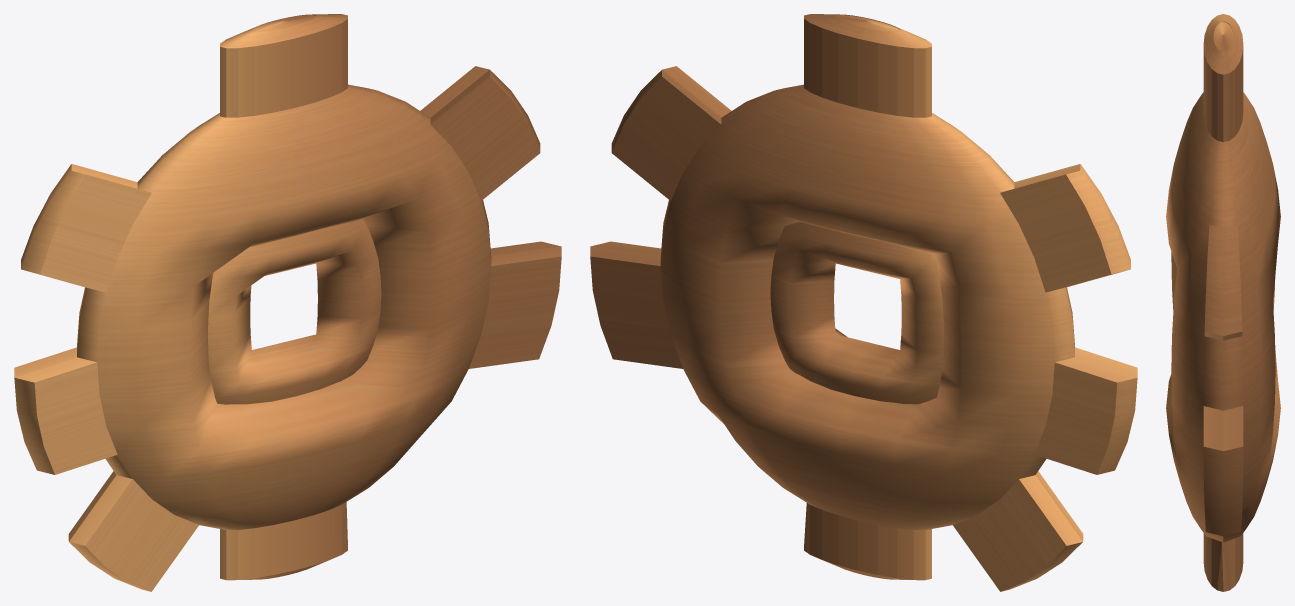
The model's file is cog 2.fbx.
3 renders of one model, left to right at view 1: azimuth 30°, elevation 25°; view 2: azimuth 150°, elevation 25°; view 3: azimuth 270°, elevation 25°, orthographic. The views are drawn at different scales.
Visible parts, largest first — view 1: pSphere3; view 2: pSphere3; view 3: pSphere3.
Boxes of the visible parts, x1=… form: pSphere3: x1=14, y1=14, x2=561, y2=591; pSphere3: x1=590, y1=14, x2=1137, y2=591; pSphere3: x1=1166, y1=14, x2=1280, y2=591.
Size of the model in its own units: 4.05 by 3.89 by 0.7575.
